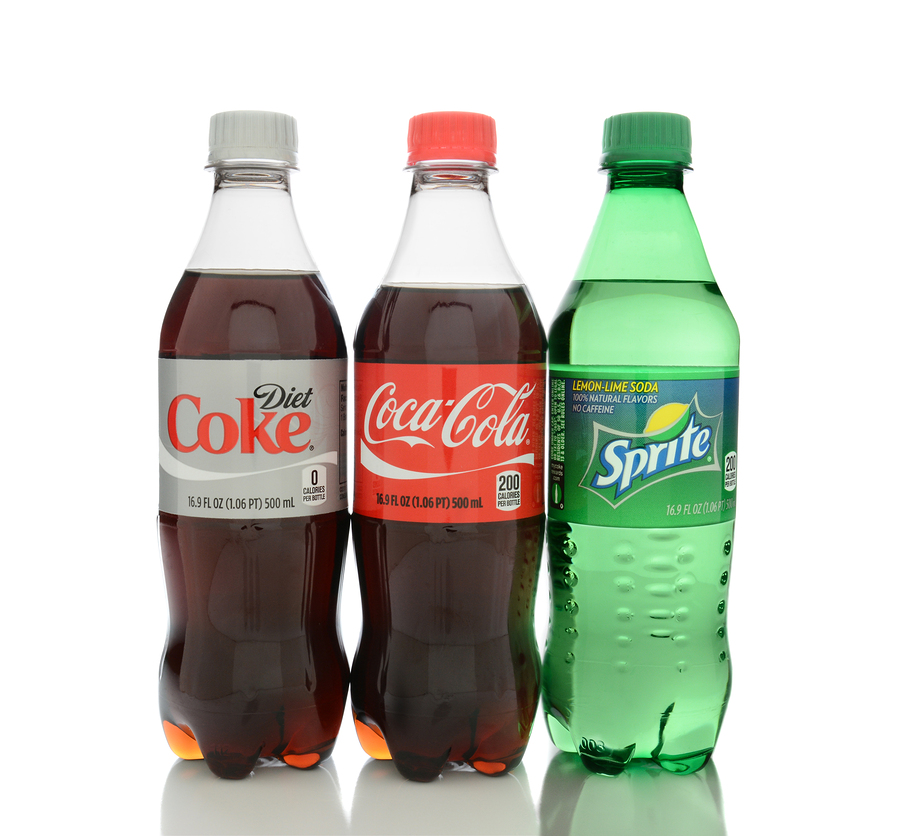Rec_Plastic: (523, 101, 770, 788), (130, 102, 357, 794), (345, 104, 553, 792)
